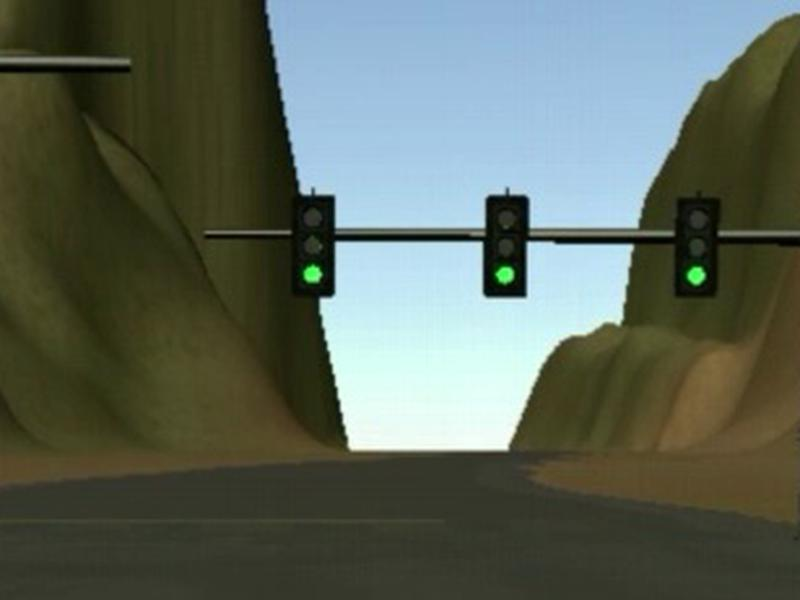Green: (482, 194, 527, 299), (675, 198, 720, 297), (292, 195, 334, 296)
